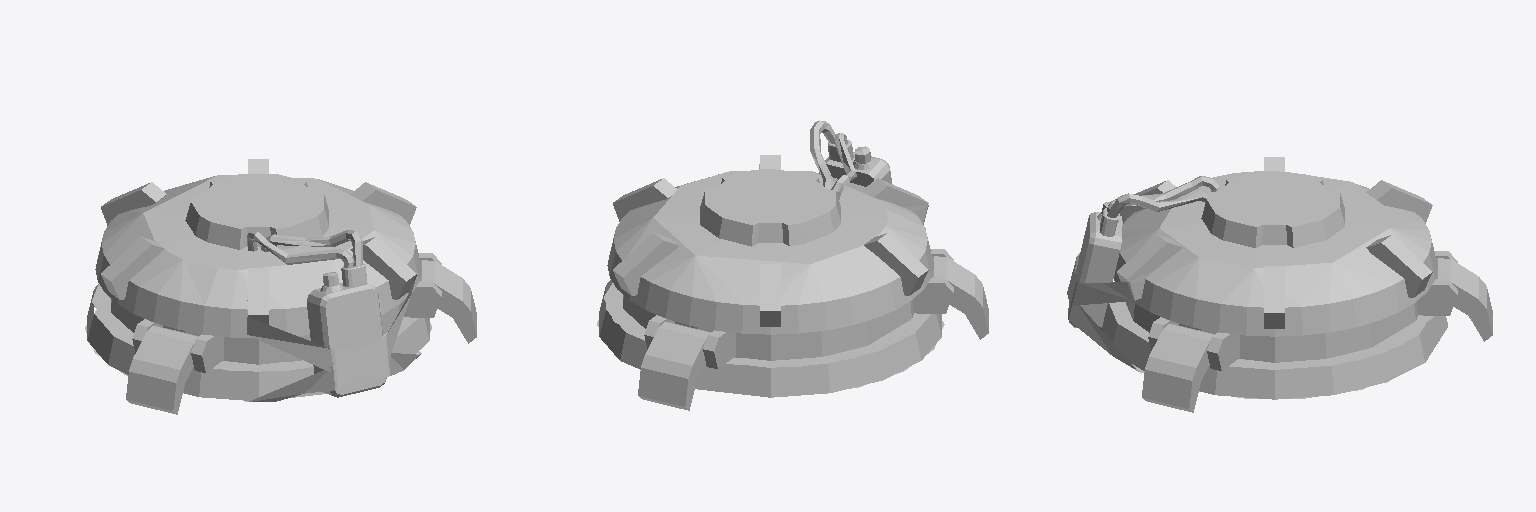
File: junkrat_mine.obj
The picture shows the model from 3 angles: view 1: azimuth 30°, elevation 25°; view 2: azimuth 150°, elevation 25°; view 3: azimuth 270°, elevation 25°; orthographic projection.
Parts seen in each view (by area): view 1: submesh; view 2: submesh; view 3: submesh.
Part boxes in pixels (x1,y1,x2,y2): submesh: (85,159,476,414); submesh: (597,120,988,410); submesh: (1067,157,1492,412).
Bounding box in the file's own units: 0.6231 × 0.2521 × 0.6543.